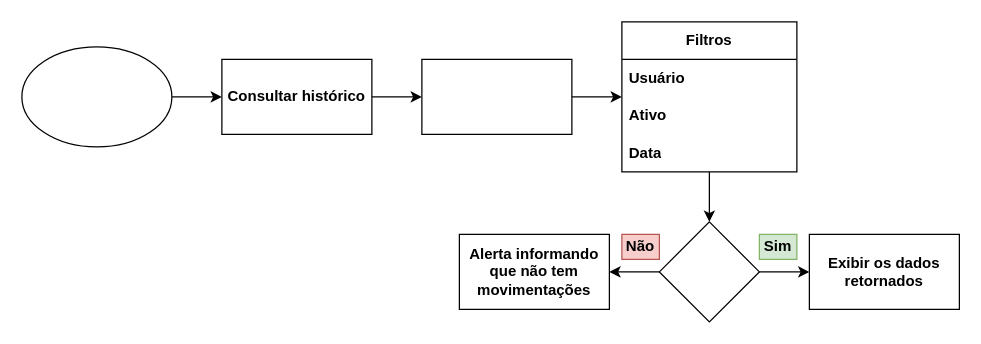
The diagram is 981 pixels wide and 344 high, and some of its shapes have lost their labels. The centre of each missing label's shape, as x and y in pixels:
Inicio: the point at 96,96
Lista de movimentações: the point at 496,96
Realiza a pesquisa: the point at 708,271
